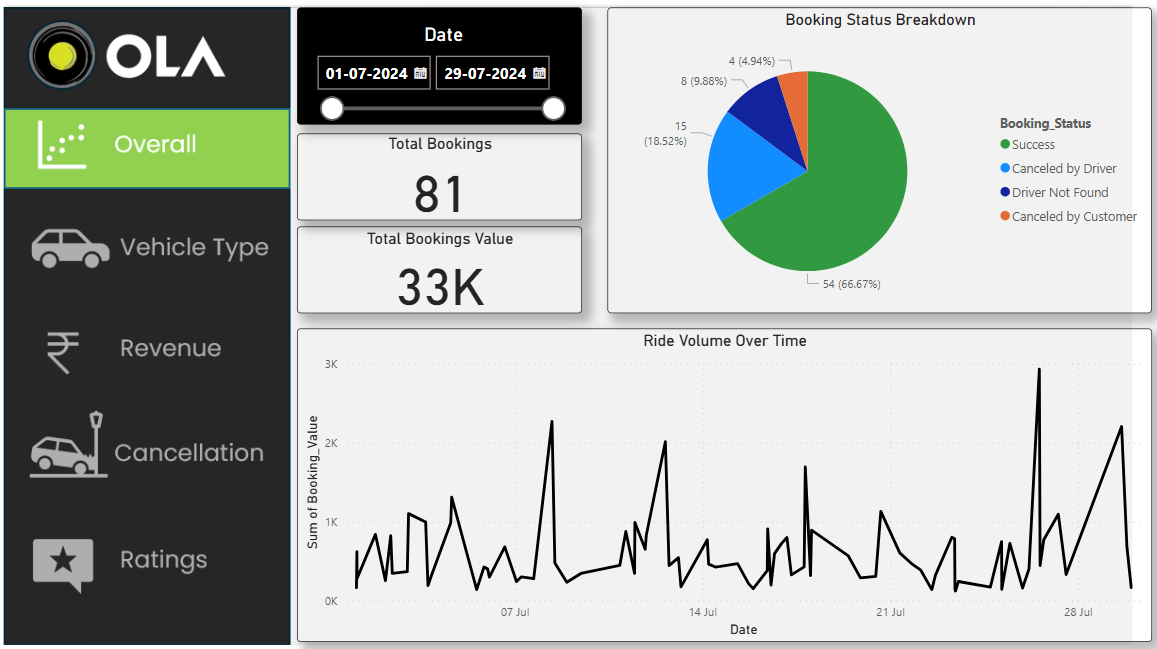

The dashboard page shown, as its layout file describes it:
{"tool":"powerbi","page":{"name":"Overall","canvas":[1280,720],"ordinal":0},"visuals":[{"type":"pieChart","title":"Booking Status Breakdown","fields":{"Category":["ola booking.Booking_Status"],"Y":["CountNonNull(ola booking.Booking_Status)"]},"box":[681.9,20.7,577,324.2],"z":0},{"type":"slicer","title":"Date","fields":{"Values":["ola booking.Date"]},"box":[352.8,20.7,302,124],"z":1000},{"type":"card","title":"Total Bookings","fields":{"Values":["CountNonNull(ola booking.Booking_ID)"]},"box":[352.8,154,302,92.2],"z":2000},{"type":"card","title":"Total Bookings Value","fields":{"Values":["Sum(ola booking.Booking_Value)"]},"box":[352.8,252.7,302,92.2],"z":3000},{"type":"lineChart","title":"Ride Volume Over Time","fields":{"Category":["ola booking.Date"],"Y":["Sum(ola booking.Booking_Value)"]},"box":[352.8,360.8,906,332.2],"z":4000},{"type":"actionButton","box":[41.3,124,300.4,92.2],"z":5000},{"type":"actionButton","box":[41.3,216.2,300.4,104.9],"z":6000},{"type":"actionButton","box":[42.9,321.1,300.4,112.8],"z":7000},{"type":"actionButton","box":[41.3,433.9,302,109.7],"z":8000},{"type":"actionButton","box":[42.9,543.6,300.4,104.9],"z":9000}]}

Visuals, with their boxes in screenshot pixels (x1, y1, x2, y2), scaled from the page's 1280x720 canvas onto the 1157x649 screenshot:
"Booking Status Breakdown" pieChart: 616/19/1138/311
"Date" slicer: 319/19/592/130
"Total Bookings" card: 319/139/592/222
"Total Bookings Value" card: 319/228/592/311
"Ride Volume Over Time" lineChart: 319/325/1138/625
actionButton: 37/112/309/195
actionButton: 37/195/309/289
actionButton: 39/289/310/391
actionButton: 37/391/310/490
actionButton: 39/490/310/585
